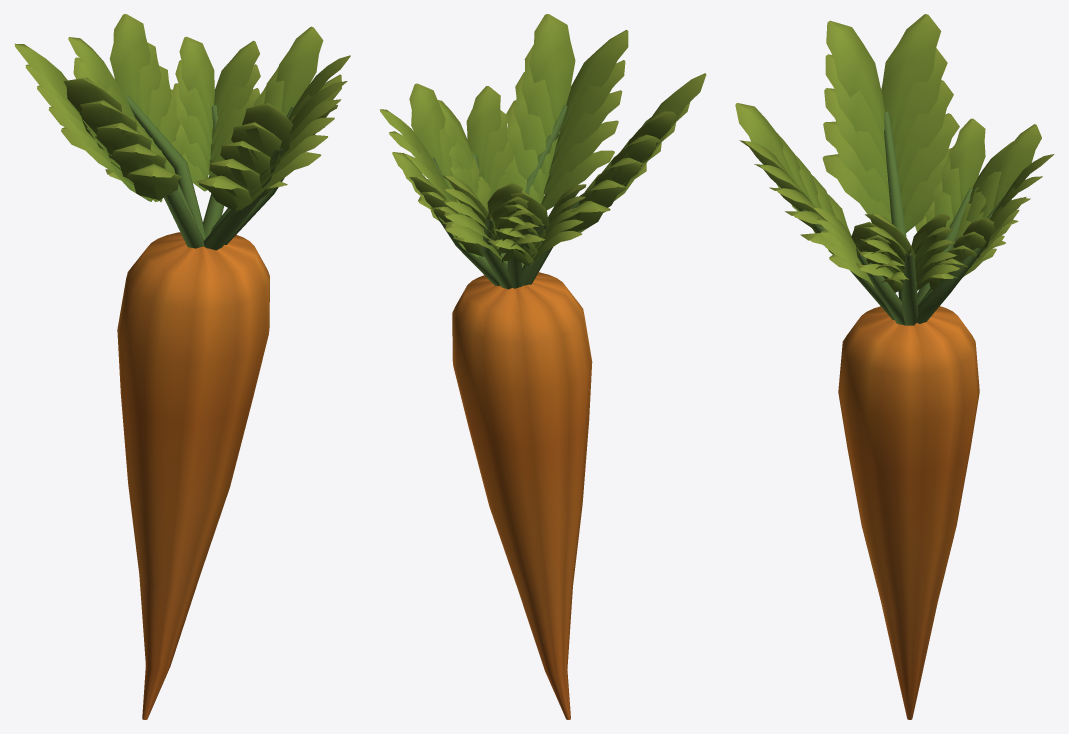
Rendered from carrot.glb.
3 views of the same model, side by side, from view 1: azimuth 30°, elevation 25°; view 2: azimuth 150°, elevation 25°; view 3: azimuth 270°, elevation 25° (orthographic). The views are drawn at different scales.
Visible parts, largest first — view 1: Plant; view 2: Plant; view 3: Plant.
Part boxes in pixels (<box>): Plant: <box>14,14,350,719</box>; Plant: <box>380,14,706,719</box>; Plant: <box>735,14,1054,719</box>.
Bounding box in the file's own units: 0.2592 × 0.556 × 0.2477.
